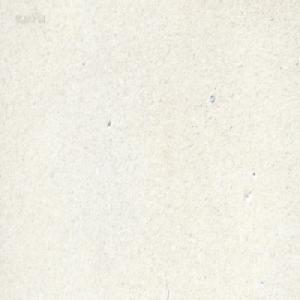Washer: (209, 92, 214, 103)
